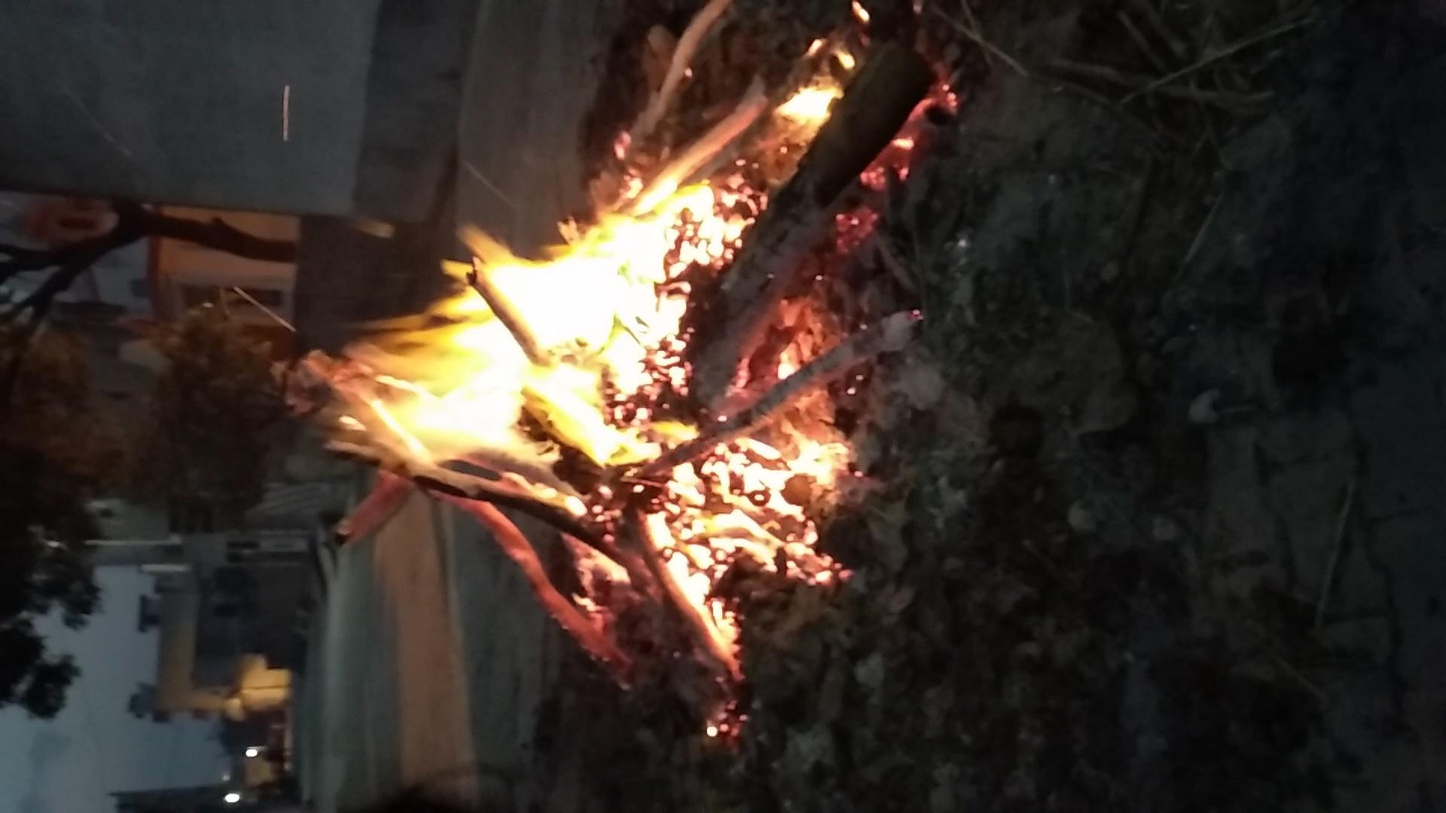fire: (273, 150, 1192, 464)
